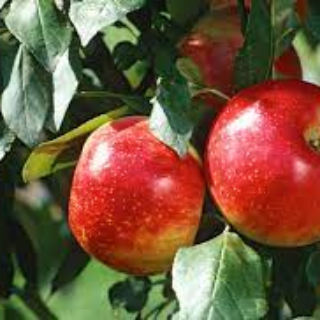tao: (66, 112, 206, 276)
